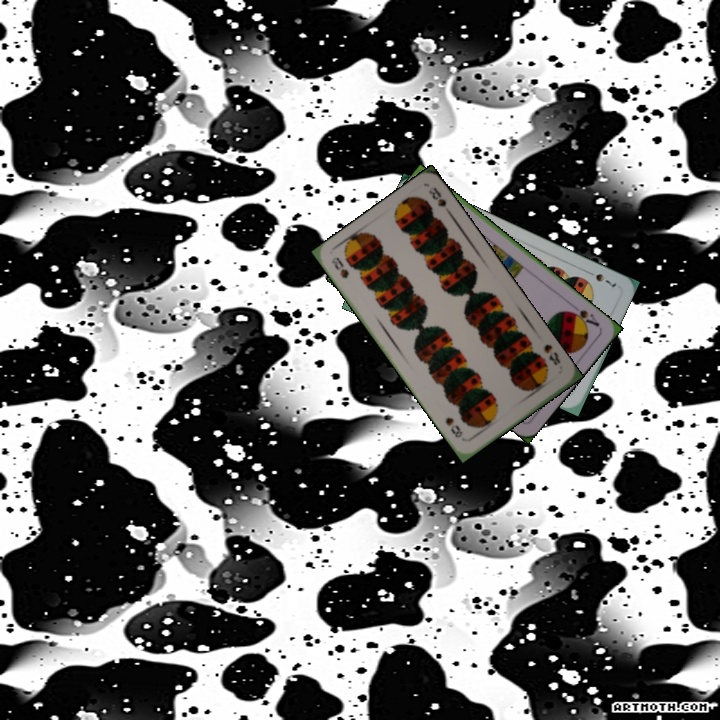S7: (582, 266, 619, 290)
S8: (327, 253, 352, 281), (540, 340, 563, 368)
SA: (564, 306, 602, 329)
